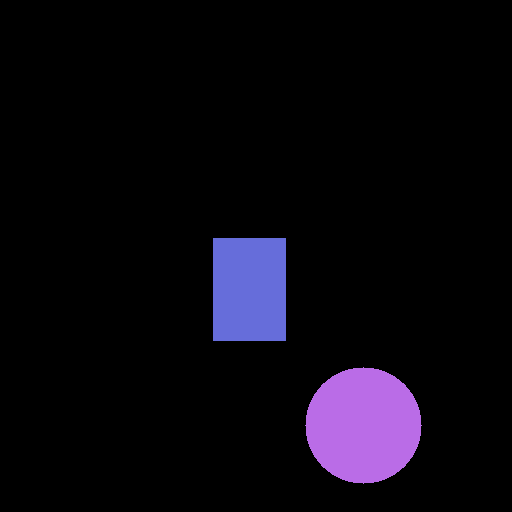circle: (305, 367, 421, 483)
rectangle: (213, 238, 285, 340)
